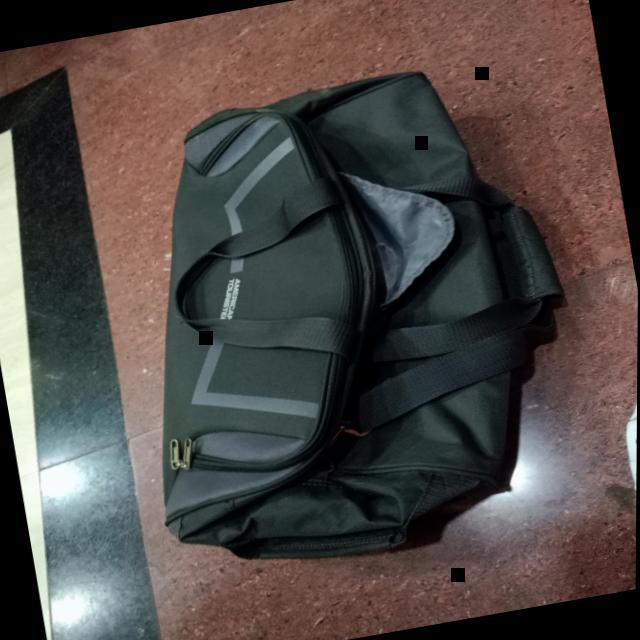luggage: (161, 71, 564, 563)
